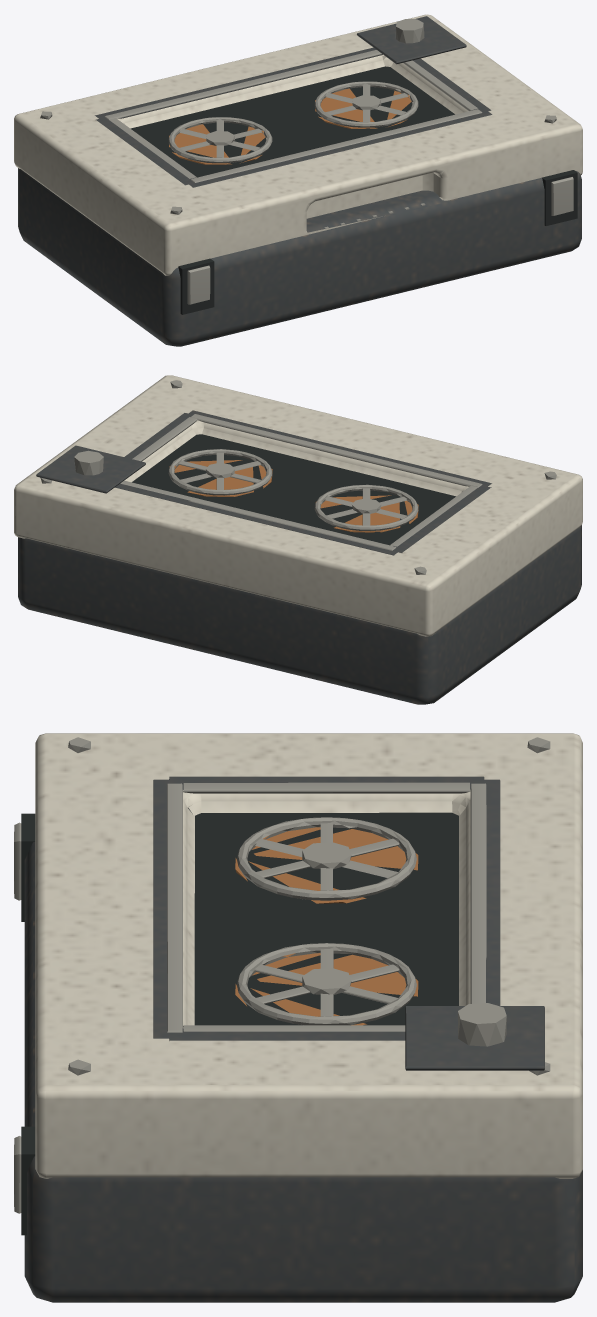
Rendered from 01-experiment-cassette.fbx.
The picture shows the model from 3 angles, top to bottom: view 1: azimuth 30°, elevation 25°; view 2: azimuth 150°, elevation 25°; view 3: azimuth 270°, elevation 25°; orthographic projection. The views are drawn at different scales.
Parts seen in each view (by area): view 1: ivory lid, lower casing, dark inset bed, control plate, window border.001, window border, dark window surround, dark window surround.001, reel rim, reel rim.001, wound magnetic tape, wound magnetic tape.001 (+9 smaller); view 2: ivory lid, lower casing, dark inset bed, control plate, window border, window border.001, dark window surround.001, reel rim.001, reel rim, dark window surround, wound magnetic tape, wound magnetic tape.001 (+5 smaller); view 3: ivory lid, lower casing, dark inset bed, control plate, reel rim, reel rim.001, window border, dark window surround, window border.001, dark window surround.001, window border.002, wound magnetic tape (+13 smaller).
Part boxes in pixels (x1,y1,x2,y2): ivory lid: [14, 14, 582, 275]; lower casing: [18, 168, 581, 346]; dark inset bed: [130, 66, 454, 177]; control plate: [357, 16, 466, 64]; window border.001: [104, 50, 382, 119]; window border: [190, 109, 482, 182]; dark window surround: [185, 111, 492, 187]; dark window surround.001: [95, 47, 382, 118]; reel rim: [168, 117, 272, 163]; reel rim.001: [314, 81, 418, 127]; wound magnetic tape: [168, 124, 265, 164]; wound magnetic tape.001: [315, 88, 411, 128]; ivory lid: [14, 375, 582, 636]; lower casing: [18, 525, 581, 704]; dark inset bed: [132, 434, 455, 545]; control plate: [36, 445, 145, 493]; window border: [191, 414, 482, 487]; window border.001: [120, 480, 396, 550]; dark window surround.001: [115, 483, 397, 555]; reel rim.001: [168, 449, 272, 495]; reel rim: [314, 484, 418, 530]; dark window surround: [188, 410, 491, 488]; wound magnetic tape: [315, 495, 418, 532]; wound magnetic tape.001: [169, 460, 272, 496]; ivory lid: [35, 733, 582, 1178]; lower casing: [24, 808, 582, 1302]; dark inset bed: [192, 812, 458, 1025]; control plate: [405, 1006, 544, 1070]; reel rim: [237, 817, 416, 900]; reel rim.001: [237, 943, 416, 1025]; window border: [167, 783, 182, 1032]; dark window surround: [153, 779, 181, 1038]; window border.001: [470, 783, 486, 1003]; dark window surround.001: [482, 779, 500, 1005]; window border.002: [183, 782, 470, 793]; wound magnetic tape: [235, 827, 418, 903].
Bounding box in the file's own units: 24 × 8 × 16.
5 materials, 5 textured.
